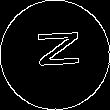N_W: (29, 34, 81, 76)
